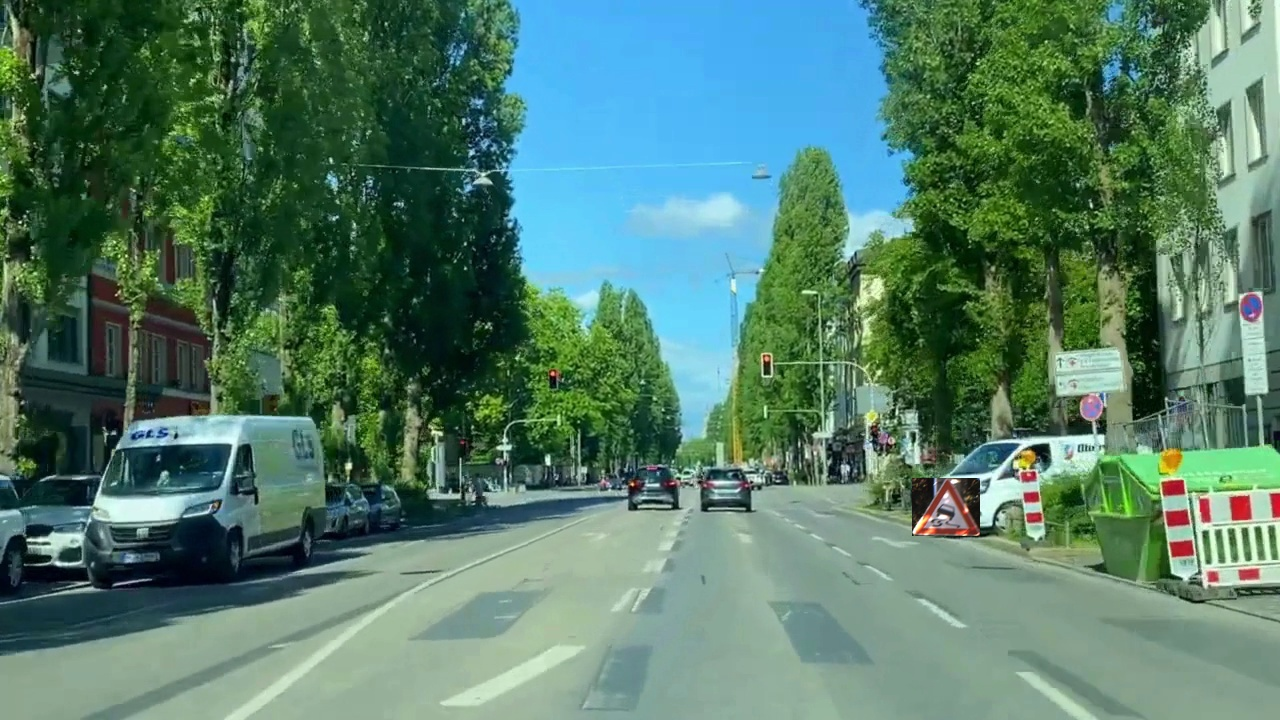Slippery: (912, 478, 980, 536)
